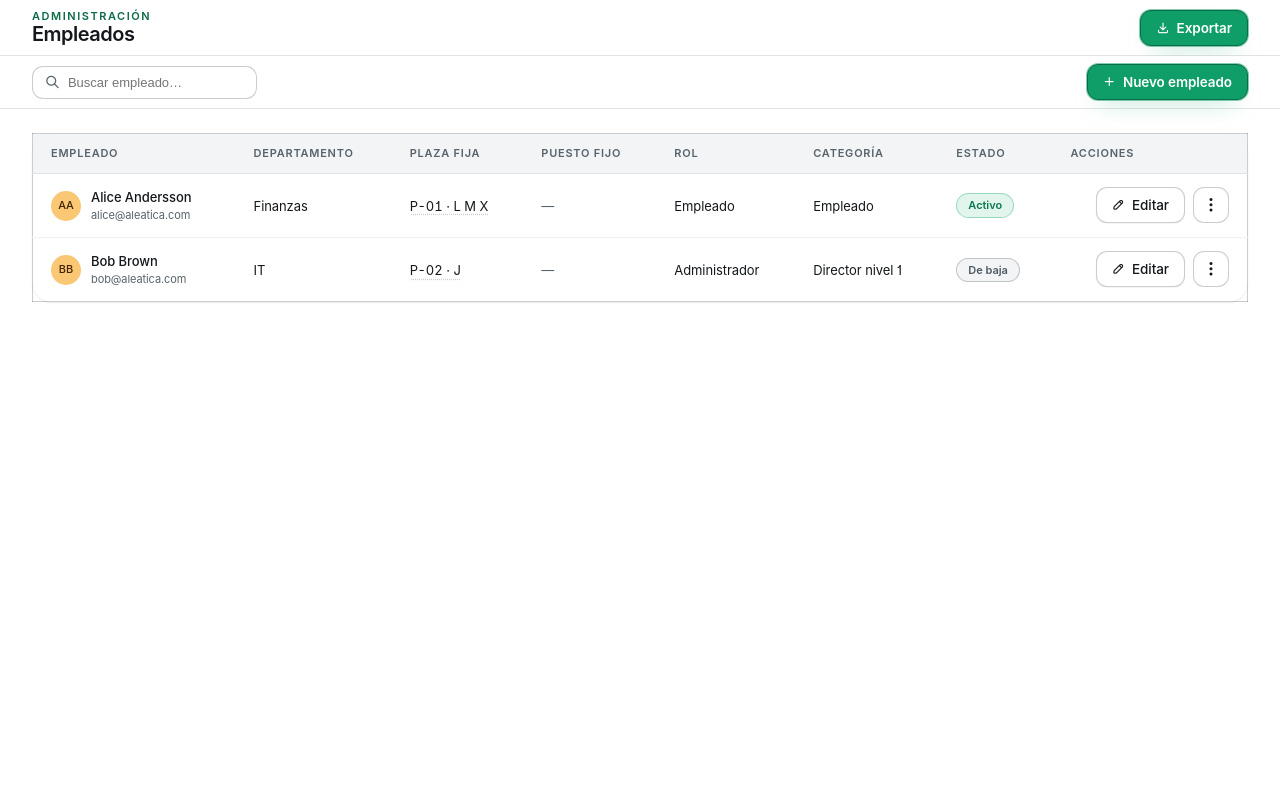
Test: EmployeesPage › should_open_reset_password_modal_when_clicking_reset
The width and height of the screenshot is (1280, 800).
Click the button named "Más acciones" in the row of "AA".
click(1211, 205)  # box x1=1193 y1=187 x2=1229 y2=223
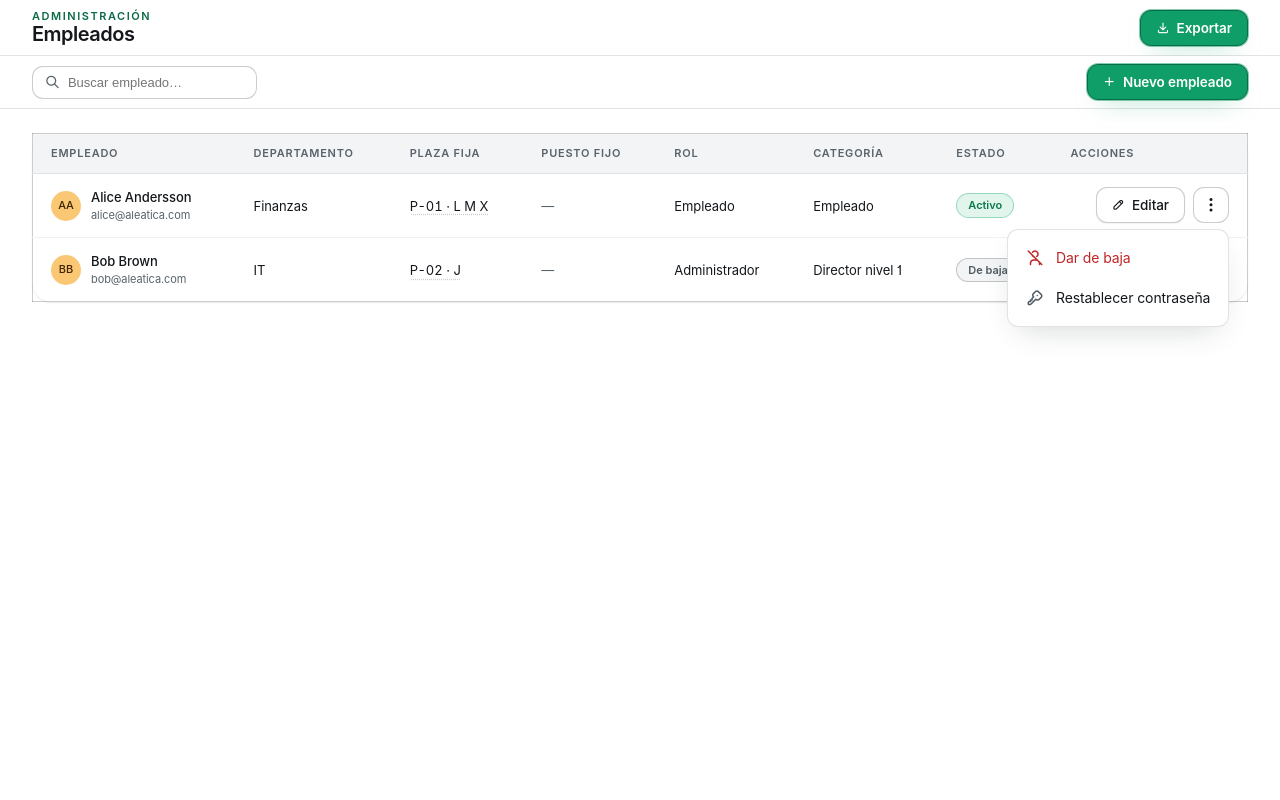
Click the menu item "Restablecer contraseña".
click(1118, 298)  # box x1=1026 y1=289 x2=1210 y2=307
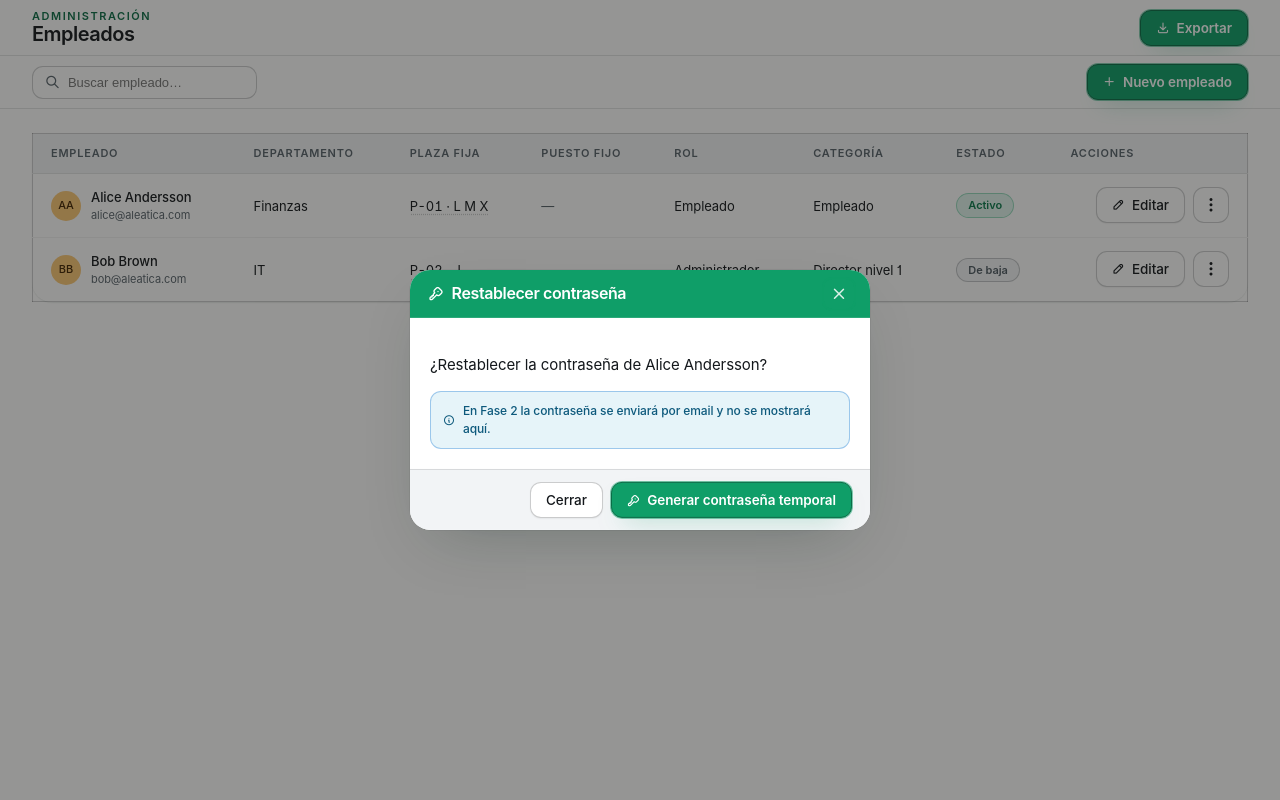
Now the button "Generar contraseña temporal" is shown, box x1=611 y1=482 x2=852 y2=518
